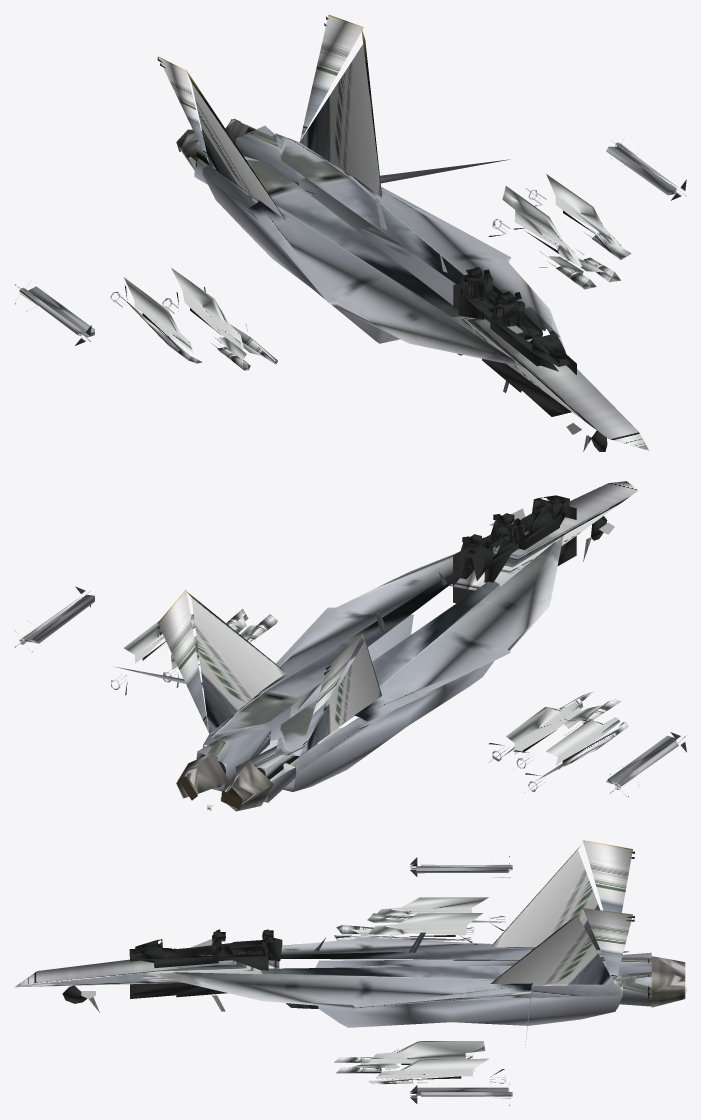
File: jet-lo.glb
The picture shows the model from 3 angles, top to bottom: view 1: azimuth 30°, elevation 25°; view 2: azimuth 150°, elevation 25°; view 3: azimuth 270°, elevation 25°; orthographic projection. The views are drawn at different scales.
Size of the model in its own units: 11.3 by 3.16 by 13.7.
19 materials, 6 textured.
